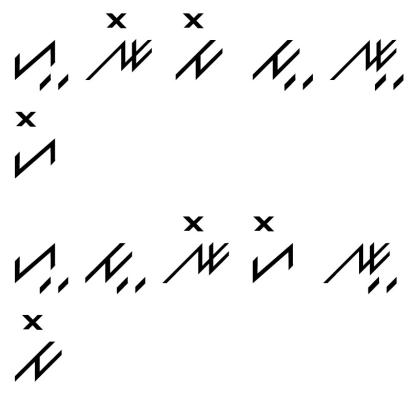hah: (8, 235, 72, 301), (8, 31, 72, 95)
ho: (246, 210, 300, 288), (10, 107, 60, 182)
mbah: (81, 234, 149, 302), (247, 32, 316, 95)
mbo: (170, 7, 226, 82), (13, 308, 65, 386)
ndah: (320, 233, 402, 296), (330, 31, 406, 93)
ndo: (159, 213, 231, 291), (83, 9, 154, 84)
